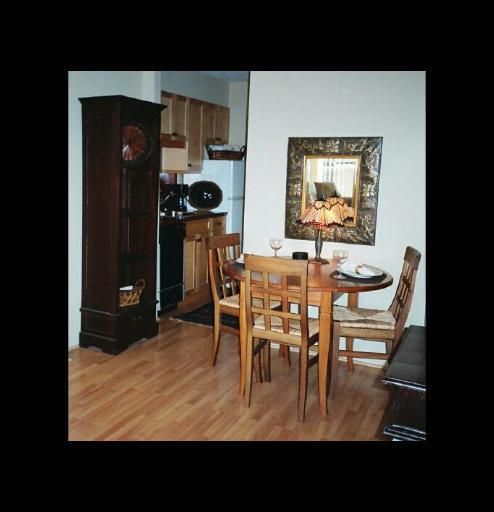Armario: (82, 98, 165, 350)
